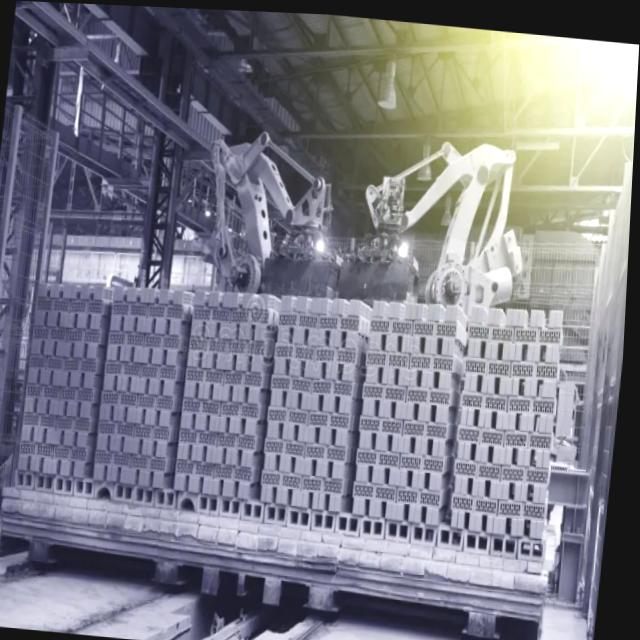bricks: (18, 278, 278, 510), (352, 302, 465, 526), (452, 310, 563, 538)
